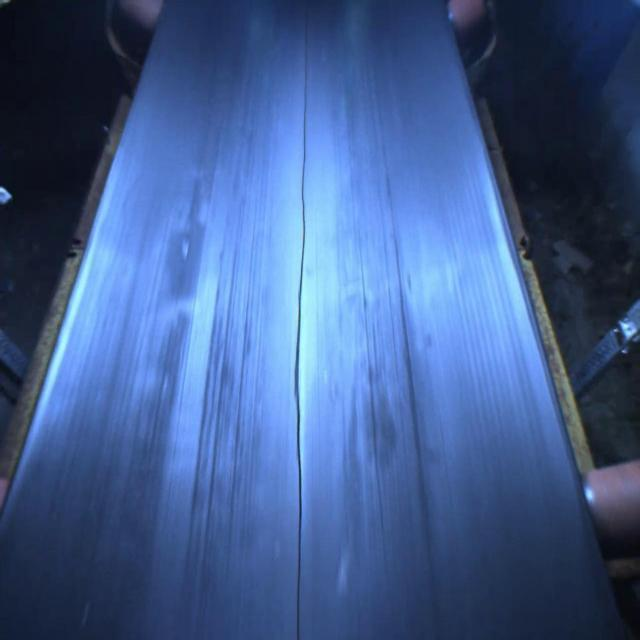Tear: (285, 8, 317, 640)
